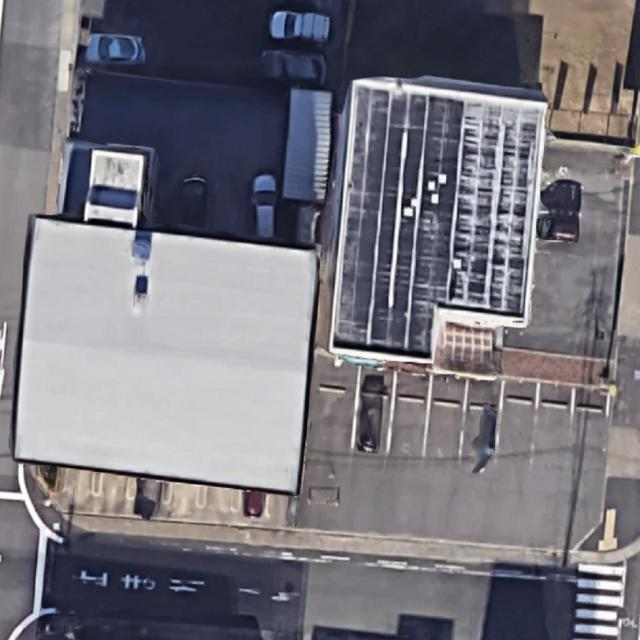Batiment: (12, 217, 318, 492), (332, 80, 545, 356)
